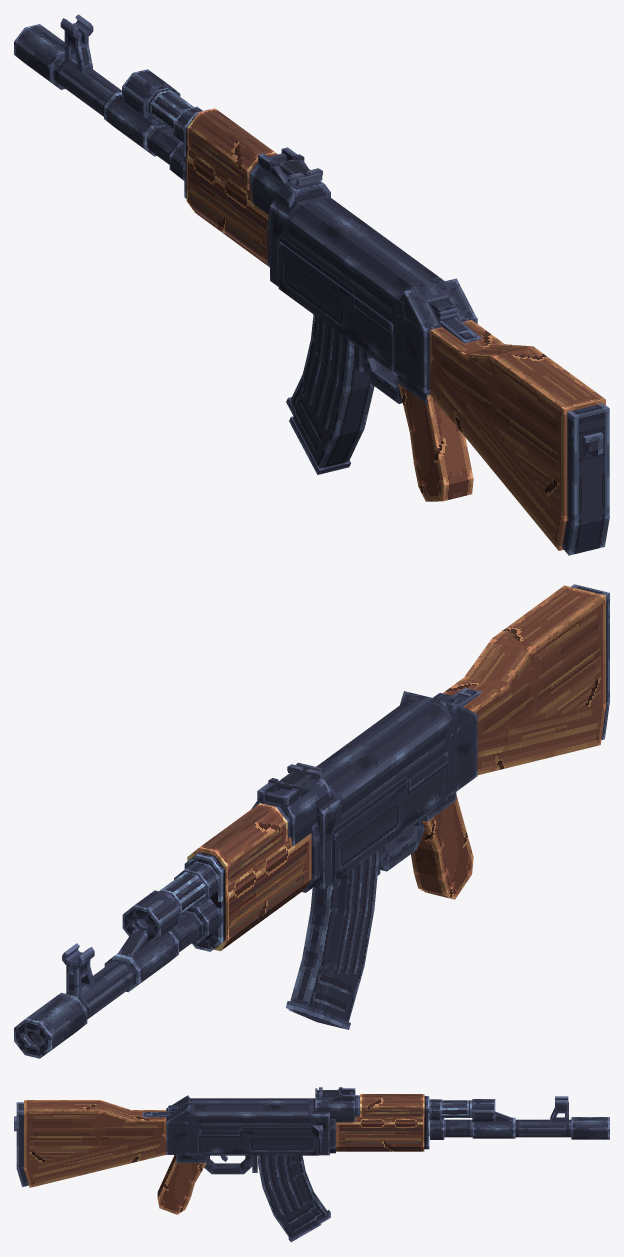
3 views of the same model, one above another, from view 1: azimuth 30°, elevation 25°; view 2: azimuth 150°, elevation 25°; view 3: azimuth 270°, elevation 25° (orthographic). The views are drawn at different scales.
Parts seen in each view (by area): view 1: cube (×26); view 2: cube (×29); view 3: cube (×37).
Boxes of the visible parts, x1,y1,x2,y2 form: cube (×26): [14, 28, 609, 555]; cube (×29): [24, 585, 606, 1042]; cube (×37): [16, 1094, 609, 1238].
Bounding box in the file's own units: 0.8984 × 3.21 × 11.79.
1 material, 1 textured.
